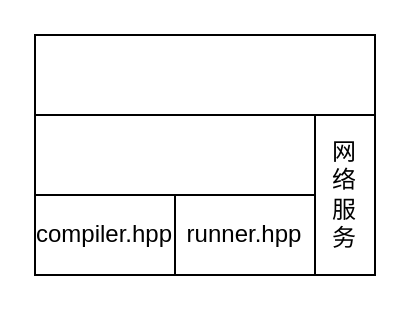
The diagram is 410 pixels wide and 310 high, and some of its shapes have lost their labels. The shapes that lost their labels are listed below. From the top down, each one's centre as x and y in pixels, then its label:
At [204,74]: "complie_server.cc".
At [174,154]: "complie_run.hpp".
